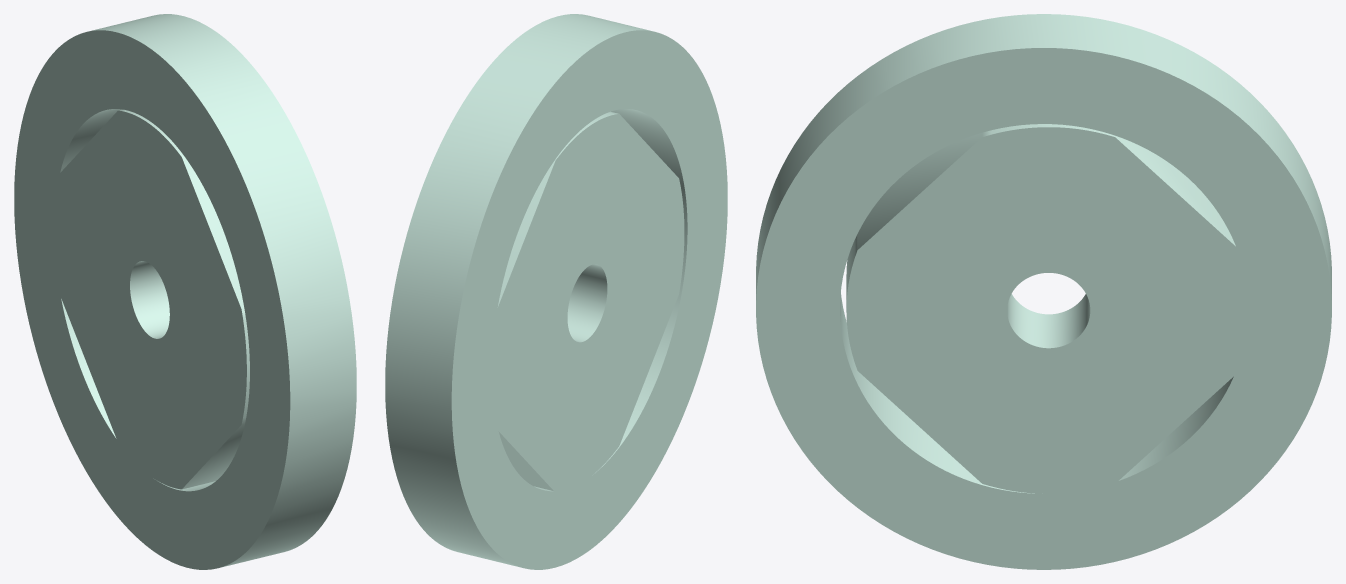
3 renders of one model, left to right at view 1: azimuth 30°, elevation 25°; view 2: azimuth 150°, elevation 25°; view 3: azimuth 270°, elevation 25°, orthographic. The views are drawn at different scales.
Parts seen in each view (by area): view 1: Renderer Node; view 2: Renderer Node; view 3: Renderer Node.
Boxes of the visible parts, <box> form: Renderer Node: <box>14,14,356,569</box>; Renderer Node: <box>385,14,727,569</box>; Renderer Node: <box>756,14,1331,569</box>.
Bounding box in the file's own units: 0.2109 × 1.52 × 1.52.
